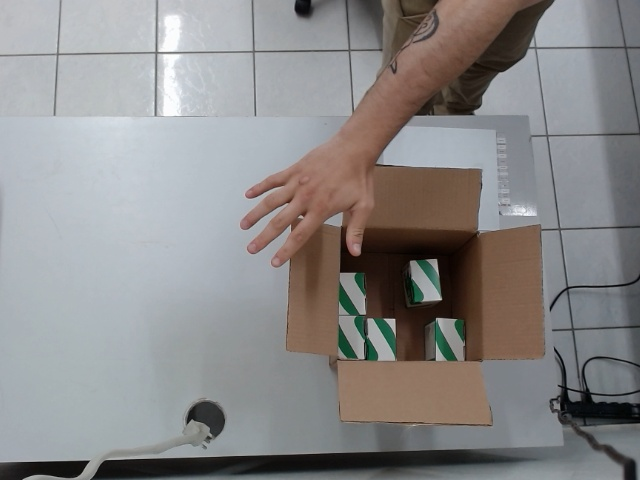caixa_principal: (324, 223, 491, 376)
